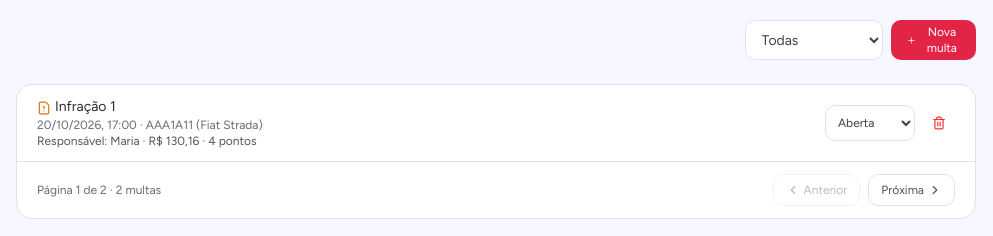
Multas da frota › anda pelas páginas da lista e volta à primeira ao trocar a situação
The width and height of the screenshot is (993, 236).
Check: the text "Infração 1" is shown, box [37,98,116,115]
Check: the text "Página 1 de 2 · 2 multas" is shown, box [37,182,161,198]
Click the button "Próxima": (912, 190) [868,174,955,206]
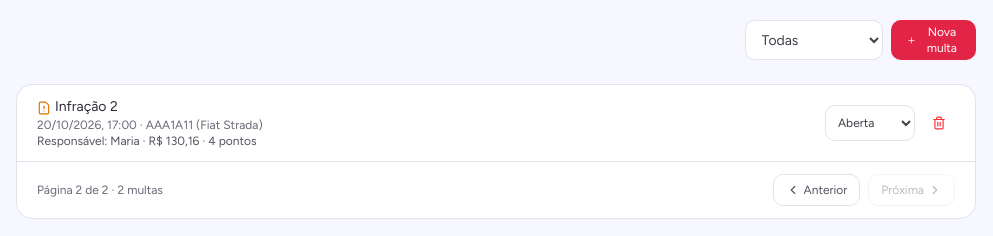
Check: the text "Infração 2" is shown, box [37,98,118,115]
Check: the text "Página 2 de 2 · 2 multas" is shown, box [37,182,163,198]
Check: the button "Próxima" is disabled, box [868,174,955,206]
Select "Paga" in the dropdown named "Filtrar por situação": (814, 40) [744,20,883,60]
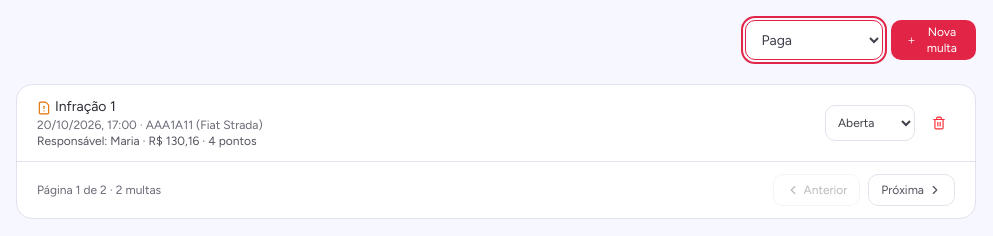
Check: the text "Infração 1" is shown, box [37,98,116,115]
